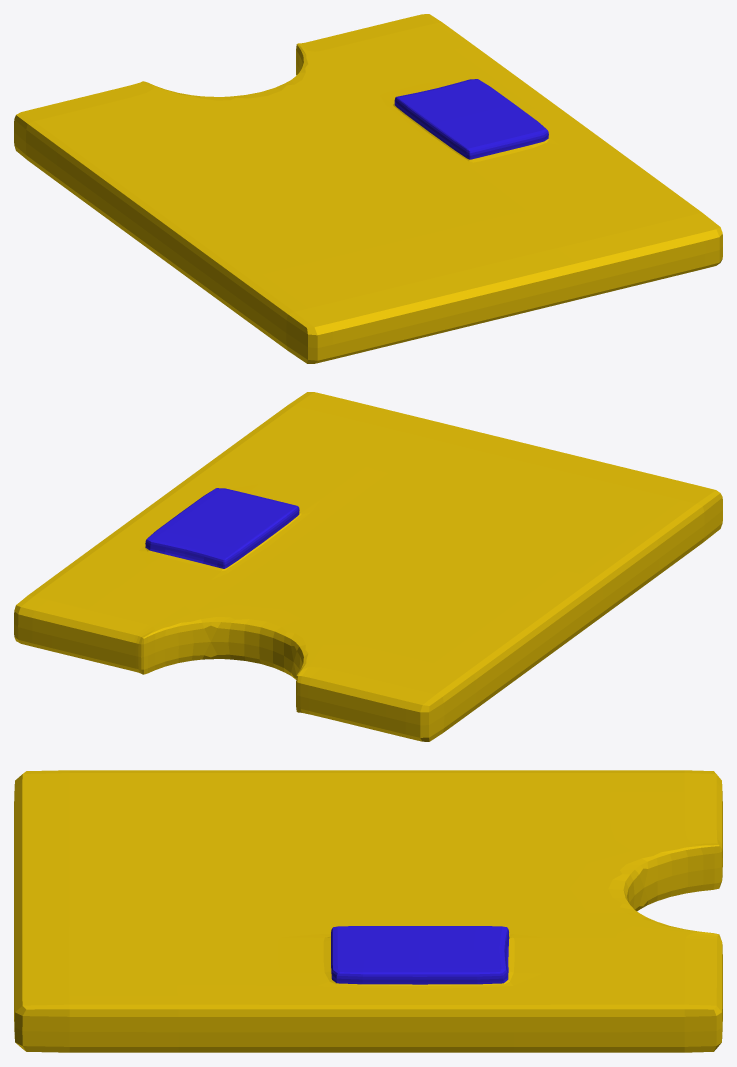
The model's file is tshirt renk.fbx.
The picture shows the model from 3 angles, top to bottom: view 1: azimuth 30°, elevation 25°; view 2: azimuth 150°, elevation 25°; view 3: azimuth 270°, elevation 25°; orthographic projection. The views are drawn at different scales.
Parts seen in each view (by area): view 1: Cube; view 2: Cube; view 3: Cube.
Part boxes in pixels (x1,y1,x2,y2): Cube: [14, 14, 722, 363]; Cube: [14, 392, 722, 741]; Cube: [14, 770, 722, 1052].
Size of the model in its own units: 160 by 17.76 by 198.
